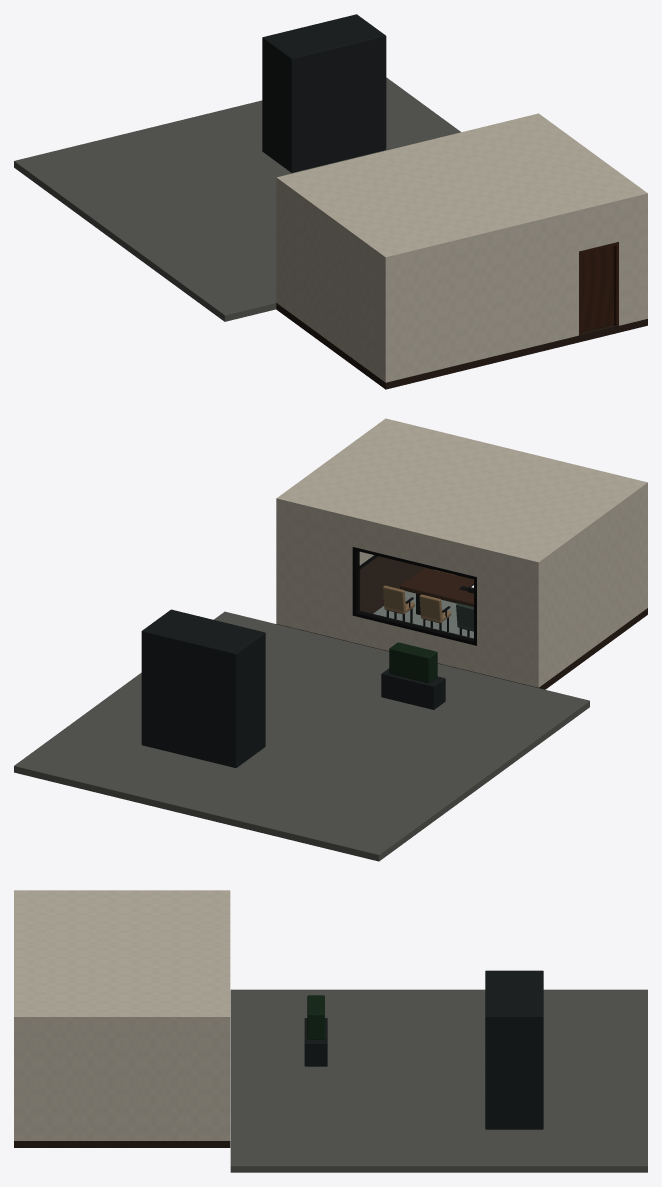
The picture shows the model from 3 angles, top to bottom: view 1: azimuth 30°, elevation 25°; view 2: azimuth 150°, elevation 25°; view 3: azimuth 270°, elevation 25°; orthographic projection.
Parts seen in each view (by area): view 1: shell.walls, exterior.near-ground, shell.ceiling, exterior.context-mass, shell.floor, review.door.panel; view 2: exterior.near-ground, shell.walls, shell.ceiling, exterior.context-mass, shell.floor, exterior.planter, component.conference-table.top, exterior.hedge, review.rug, opening.main-window.frame.bottom; view 3: exterior.near-ground, shell.ceiling, shell.walls, exterior.context-mass, shell.floor, exterior.hedge, exterior.planter.
Boxes of the visible parts, x1,y1,x2,y2 form: shell.walls: [276, 184, 647, 382]; exterior.near-ground: [14, 77, 460, 321]; shell.ceiling: [276, 113, 647, 263]; exterior.context-mass: [262, 14, 386, 172]; shell.floor: [276, 303, 647, 389]; review.door.panel: [582, 246, 613, 331]; exterior.near-ground: [14, 611, 589, 861]; shell.walls: [276, 489, 647, 687]; shell.ceiling: [276, 418, 647, 569]; exterior.context-mass: [141, 609, 265, 767]; shell.floor: [277, 556, 647, 689]; exterior.planter: [381, 668, 445, 709]; component.conference-table.top: [400, 568, 473, 606]; exterior.hedge: [389, 642, 437, 683]; review.rug: [373, 591, 473, 638]; opening.main-window.frame.bottom: [355, 610, 473, 644]; exterior.near-ground: [230, 989, 647, 1172]; shell.ceiling: [14, 890, 230, 1023]; shell.walls: [14, 1023, 230, 1140]; exterior.context-mass: [485, 970, 543, 1129]; shell.floor: [14, 1141, 230, 1147]; exterior.hedge: [307, 995, 324, 1039]; exterior.planter: [304, 1018, 327, 1066].
Size of the model in its own units: 10 by 3.46 by 15.19.
16 materials, 9 textured.
